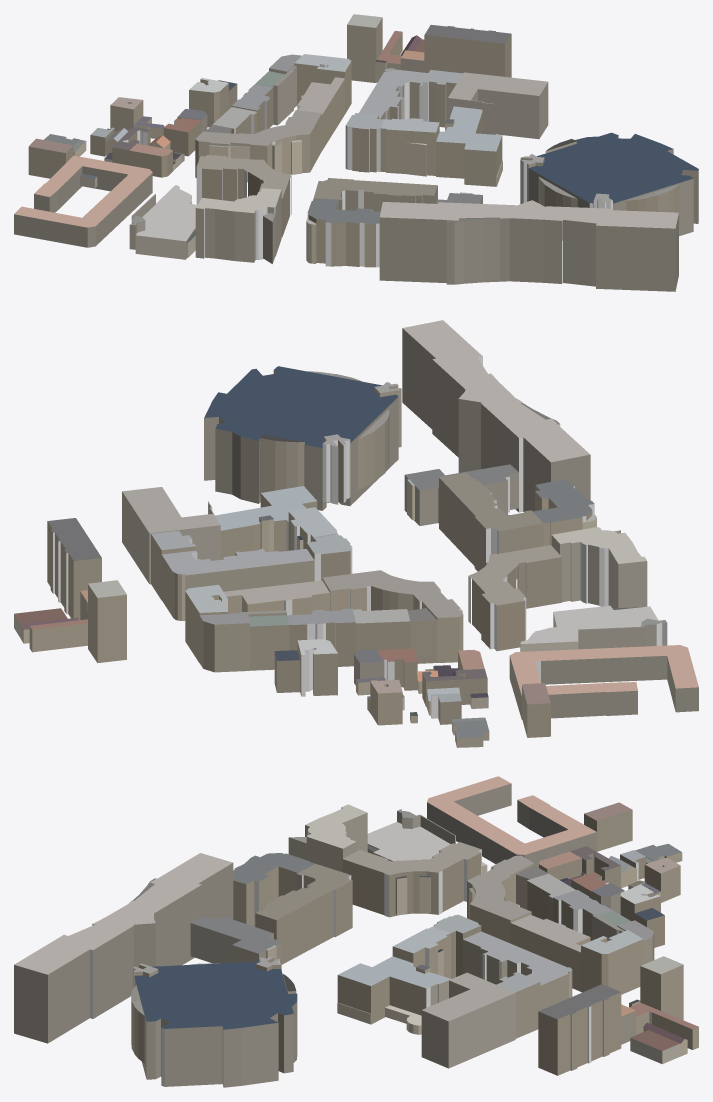
3 renders of one model, top to bottom at view 1: azimuth 30°, elevation 25°; view 2: azimuth 150°, elevation 25°; view 3: azimuth 270°, elevation 25°, orthographic. The views are drawn at different scales.
Visible parts, largest first — view 1: tuile; view 2: tuile; view 3: tuile.
Boxes of the visible parts, box(x1,y1,x2,y2) form: tuile: box(14, 14, 698, 291); tuile: box(14, 320, 698, 747); tuile: box(14, 776, 698, 1087).
Size of the model in its own units: 307 by 36.83 by 314.
